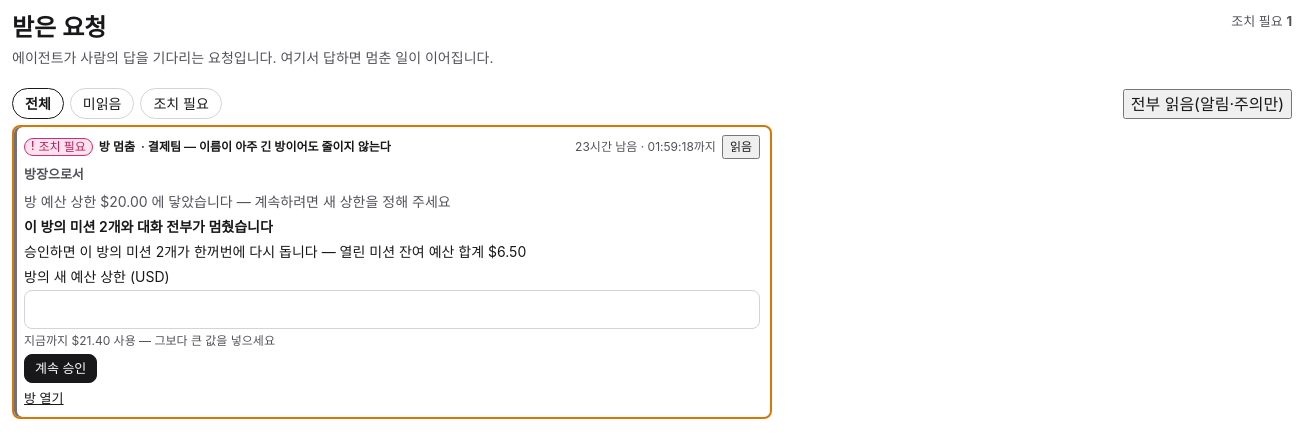
it: S8 v0.19 — 방 층 항목 › room_paused — 두 문장(수·잔여 합계는 getRoom 의 blocked_detail) · 예산이면 새 상한을 받아 승인하면 방 멈춤이 풀린다
Expected: the element with test id "inbox-basis" reads "방장으로서", [24,166,84,182]
In the number field with test id "inbox-room-budget": (392, 309) [24,290,760,329], type "40"
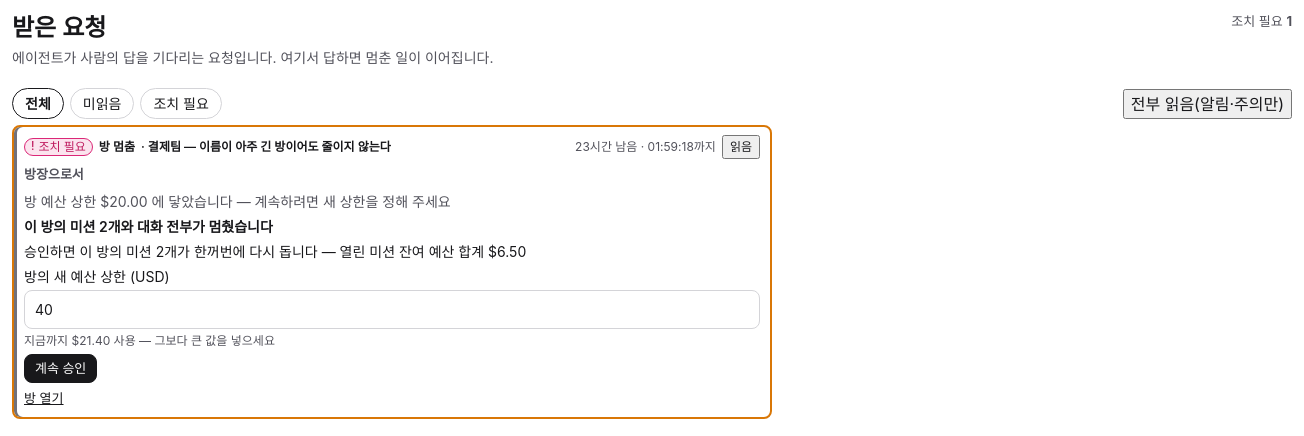
Click the button with test id "inbox-room-approve": (61, 368) [24,354,97,383]
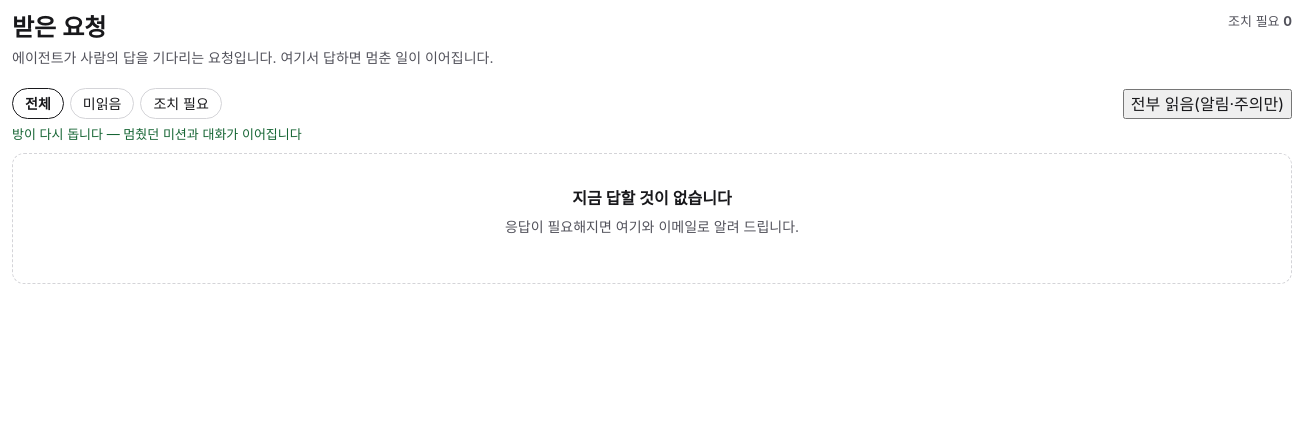
Now the message with test id "inbox-toast" reads "방이 다시 돕니다 — 멈췄던 미션과 대화가 이어집니다", box [12,126,302,142]
